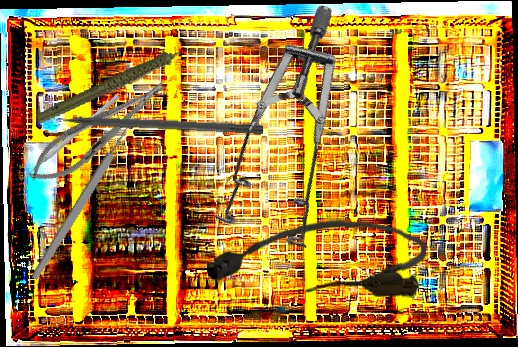Cannula: (206, 218, 427, 298)
Handpiece: (29, 44, 206, 126)
Needle Holder: (20, 69, 176, 195)
Pusher: (18, 92, 121, 184), (34, 110, 264, 135)
Speculum: (155, 1, 439, 280)
Surgical Spoon: (29, 98, 150, 282)
